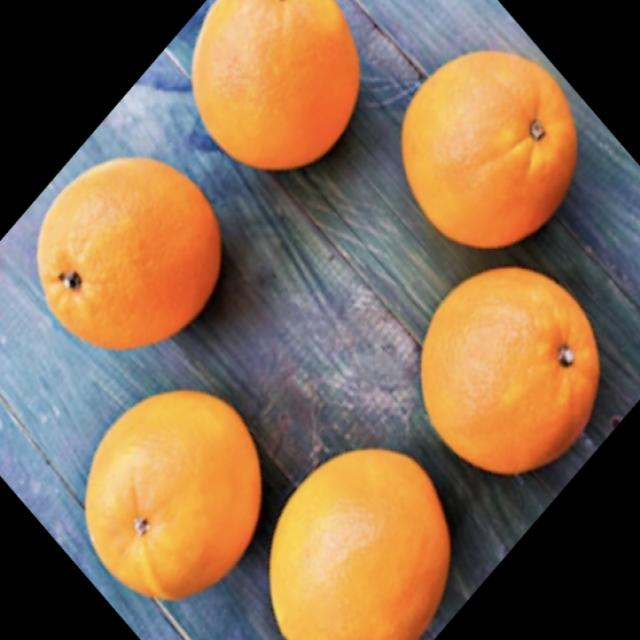fresh: (21, 4, 618, 640)
